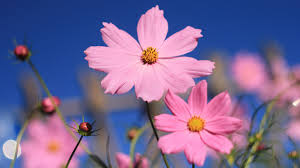flower: (81, 13, 217, 108), (152, 91, 241, 164)
